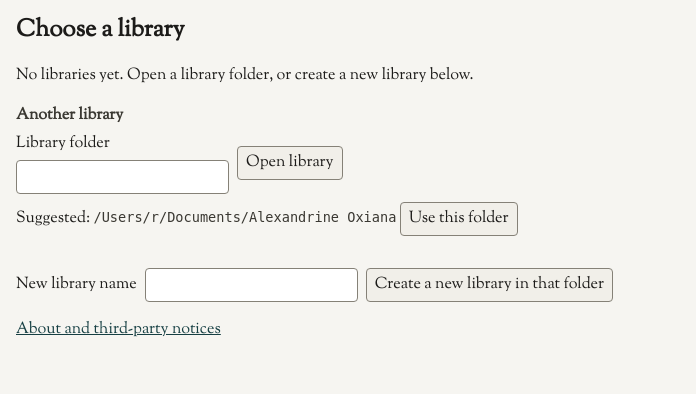
Test: LibraryChooser › R447: the suggestion is offered under the box, which stays empty; “Use this folder” fills it and creates nothing
The image size is (696, 394).
Check: the button "Use this folder" is shown, box [400,202,518,236]
Check: the number of buttons "Use this folder" is 1, box [400,202,518,236]
Note: A typed path's problem line clears when the button fills the box, as if typed.
Click the button "Create a new library in that folder" at [489, 285], box [366,268,613,302]
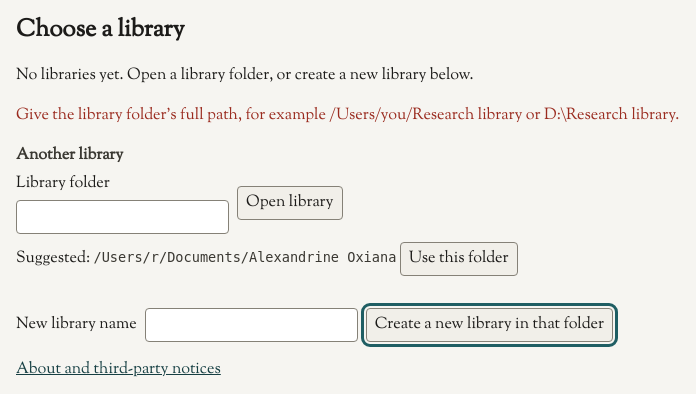
Check: the 1st message shows "full path", box [16,104,679,127]
Click the button "Use this folder" at [459, 259], box [400,242,518,276]
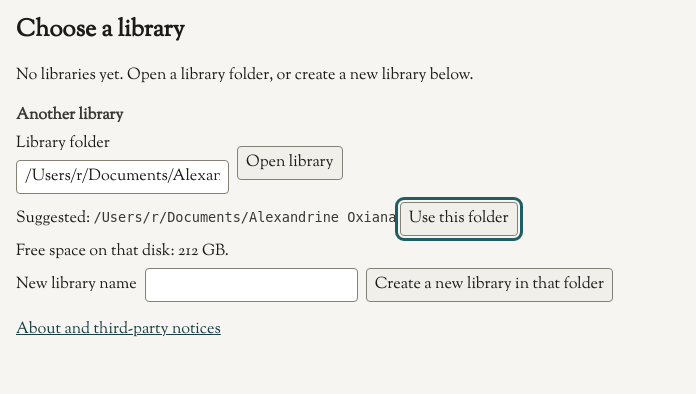
Check: the field labelled "Library folder" holds "/Users/r/Documents/Alexandrine Oxiana", box [16,160,229,194]
Check: the text "Free space on that disk: 212 GB." is shown, box [16,240,229,263]
